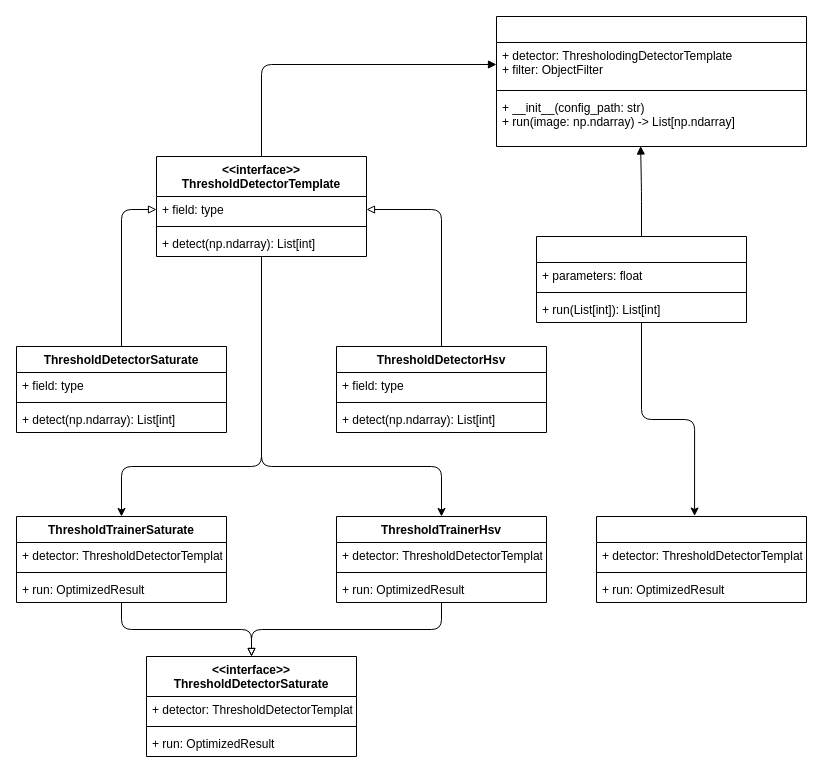
This 826x773 diagram has some shape labels left out. Here are the shapes that lost their labels. From the top down, the box of each, then its label:
(496, 16, 806, 146): RegionExtractor
(536, 236, 746, 322): ObjectFilter
(596, 516, 806, 602): ObjectFilterTrainer
